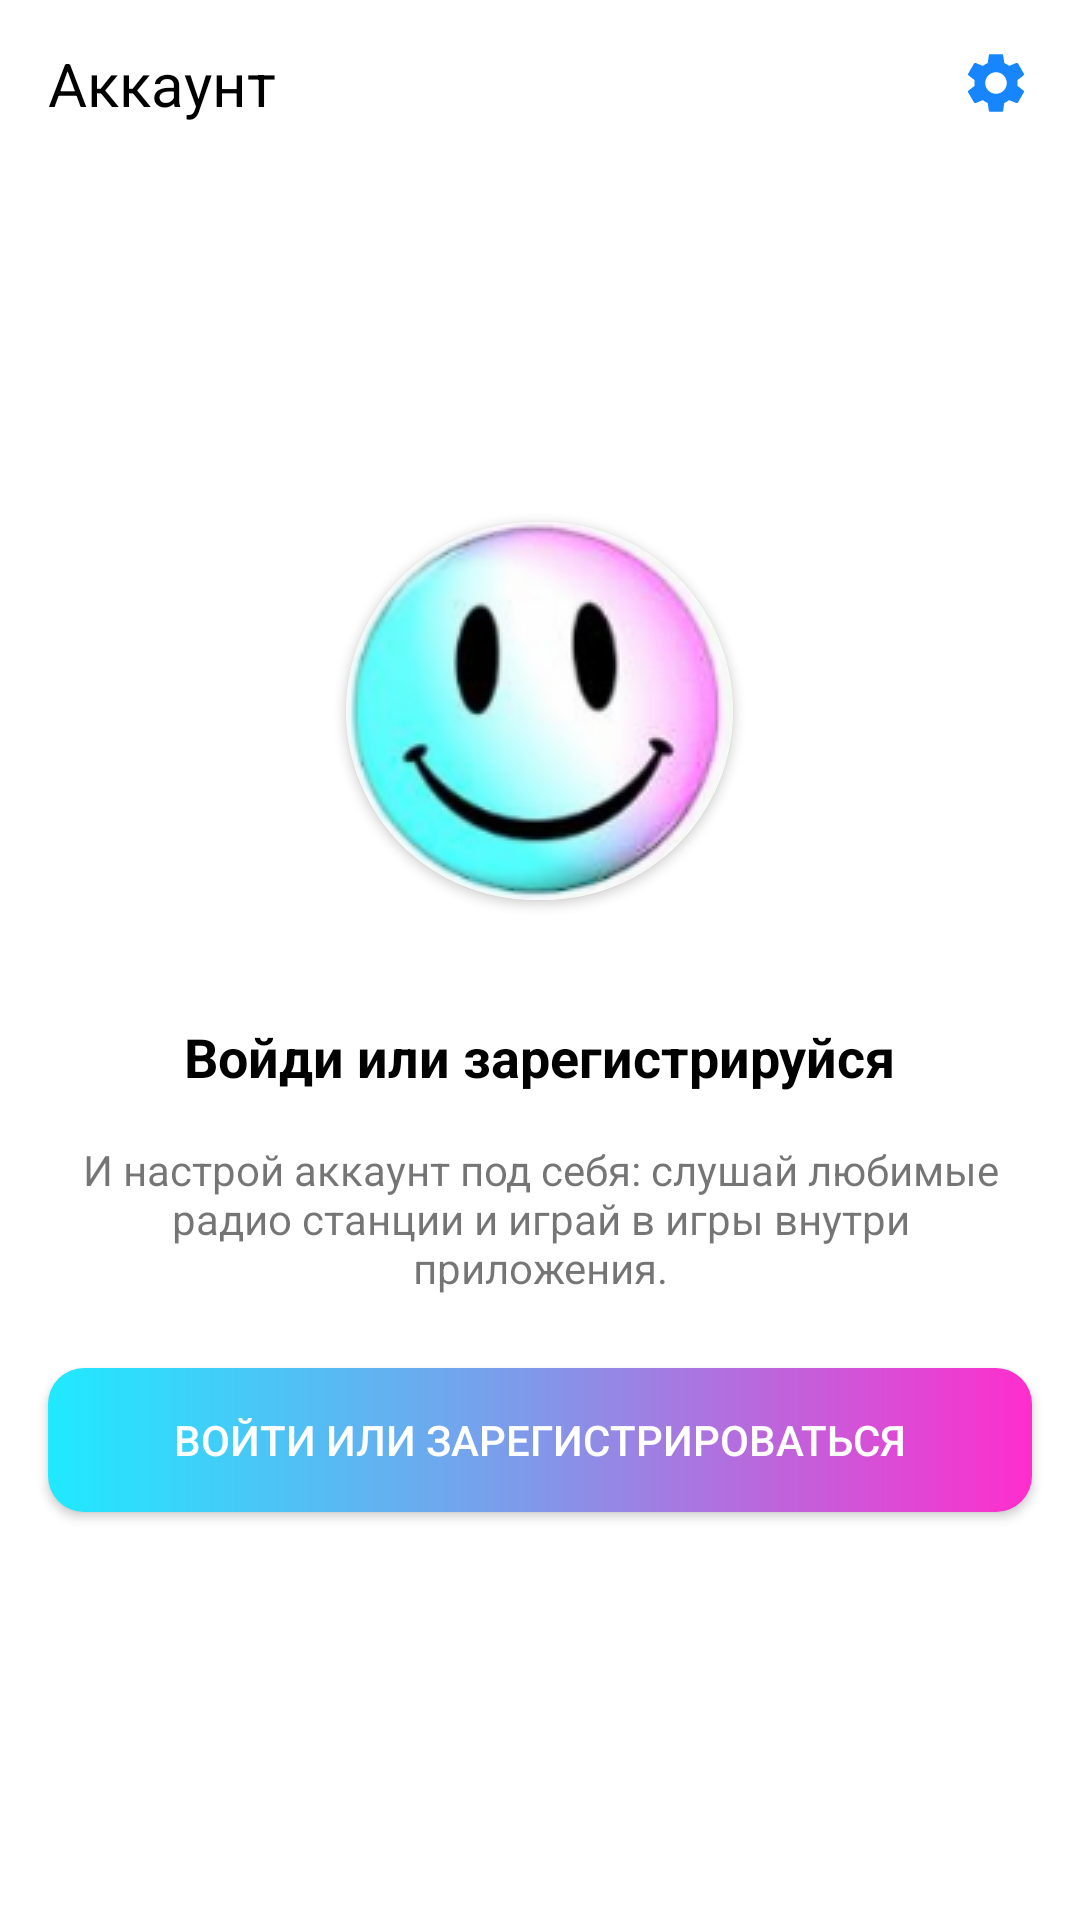

Where icons sit on this 1080 × 1920 app screen, as (x1=x1, y1=y1, x2=x2, y2=y2):
settings: (x1=968, y1=54, x2=1024, y2=112)
